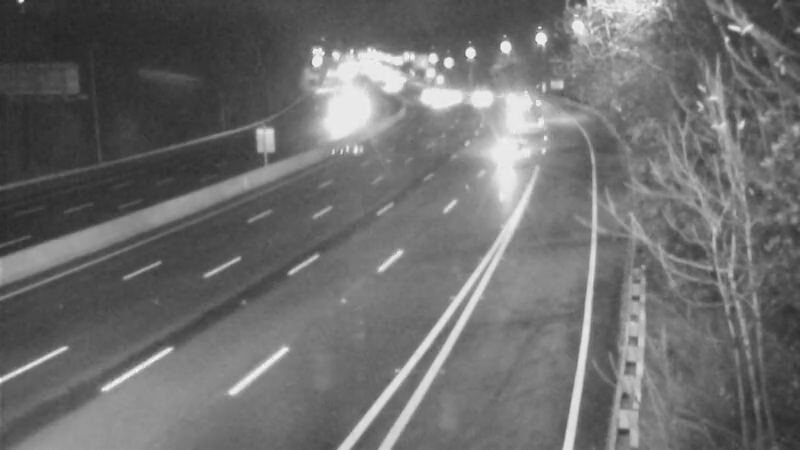vehicle: (363, 60, 413, 110), (430, 69, 480, 119), (456, 72, 506, 122), (494, 84, 544, 134), (489, 125, 539, 175), (310, 92, 360, 142)
